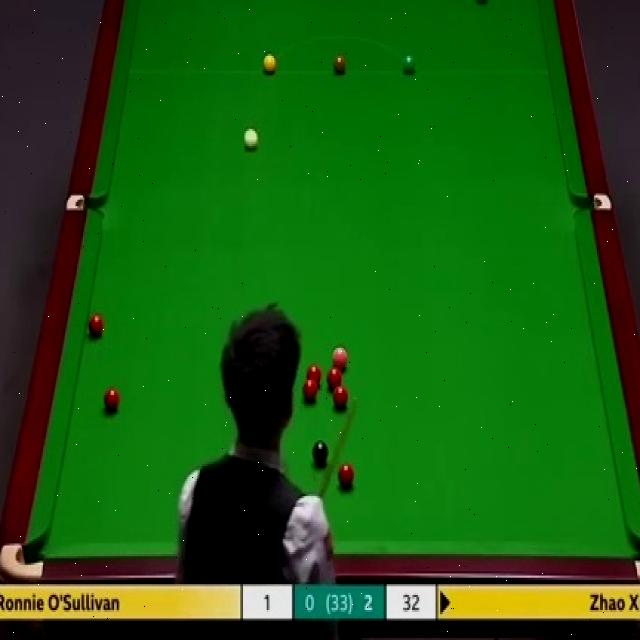black-ball: (312, 438, 330, 469)
blue-ball: (472, 0, 490, 6)
brown-ball: (333, 54, 347, 76)
green-ball: (402, 54, 416, 77)
pink-ball: (329, 344, 348, 371)
red-ball: (103, 386, 121, 415), (338, 463, 357, 490), (301, 379, 318, 404), (87, 312, 103, 338), (304, 364, 322, 386), (333, 384, 348, 409), (326, 368, 343, 388)
white-ball: (242, 125, 260, 152)
yellow-ball: (263, 53, 277, 76)
